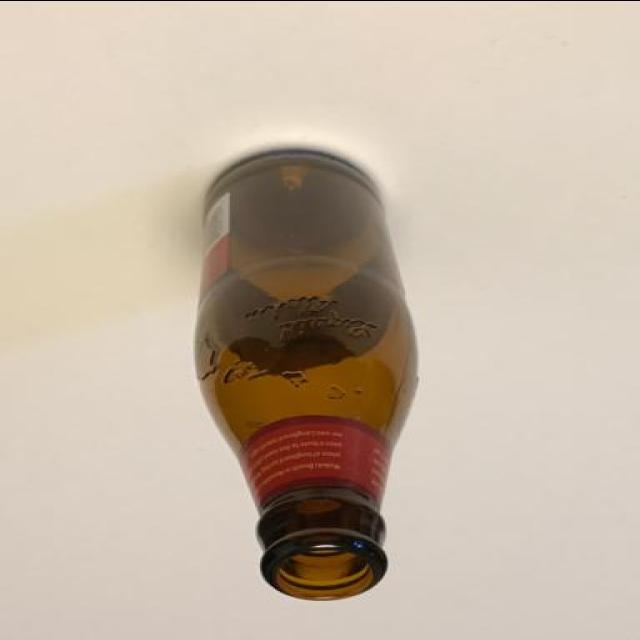Glass Bottle: (197, 142, 433, 604)
